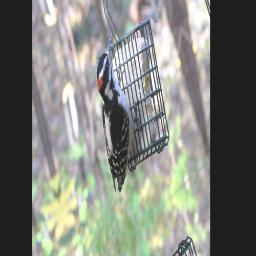Woodpecker: (85, 24, 152, 197)
